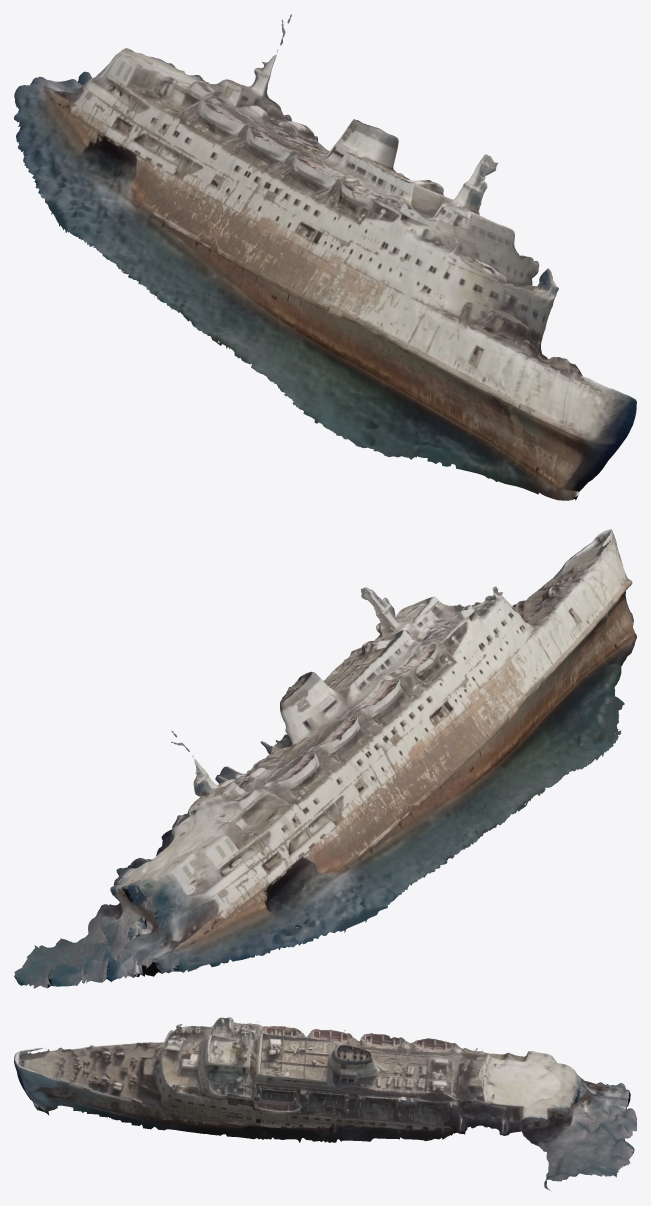
File: wrecked_ship.glb
The picture shows the model from 3 angles, top to bottom: view 1: azimuth 30°, elevation 25°; view 2: azimuth 150°, elevation 25°; view 3: azimuth 270°, elevation 25°; orthographic projection. The views are drawn at different scales.
Parts seen in each view (by area): view 1: Object_2, Object_3; view 2: Object_2, Object_3; view 3: Object_3, Object_2.
Boxes of the visible parts, left/top/right/bottom form: Object_2: left=18, top=14, right=634, bottom=500; Object_3: left=14, top=19, right=636, bottom=500; Object_2: left=64, top=529, right=636, bottom=962; Object_3: left=14, top=529, right=631, bottom=988; Object_3: left=14, top=1017, right=636, bottom=1191; Object_2: left=14, top=1017, right=591, bottom=1172.
Bounding box in the file's own units: 157 × 122 × 500.
Materials: 2 (2 with a texture image).
